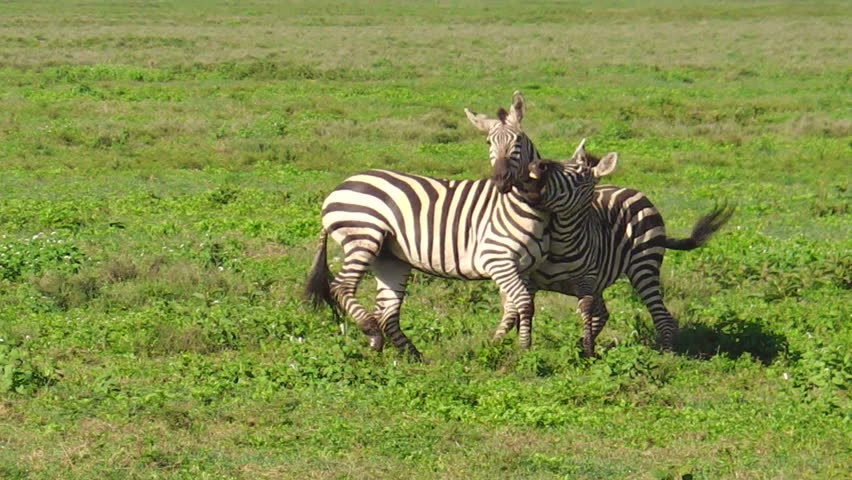zebra: (432, 232, 693, 480), (625, 246, 851, 467)
